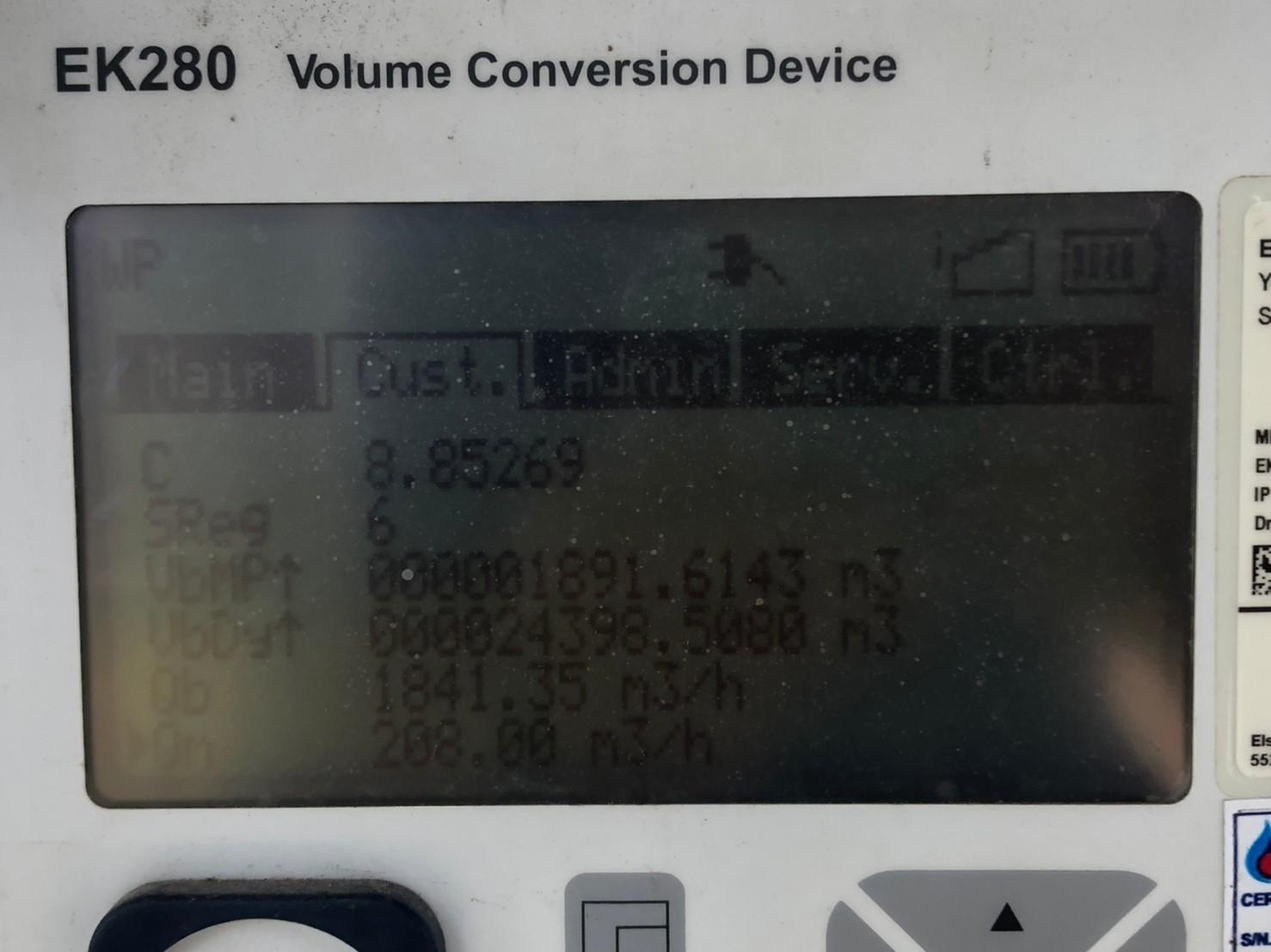digital_screen: (71, 200, 1205, 809)
